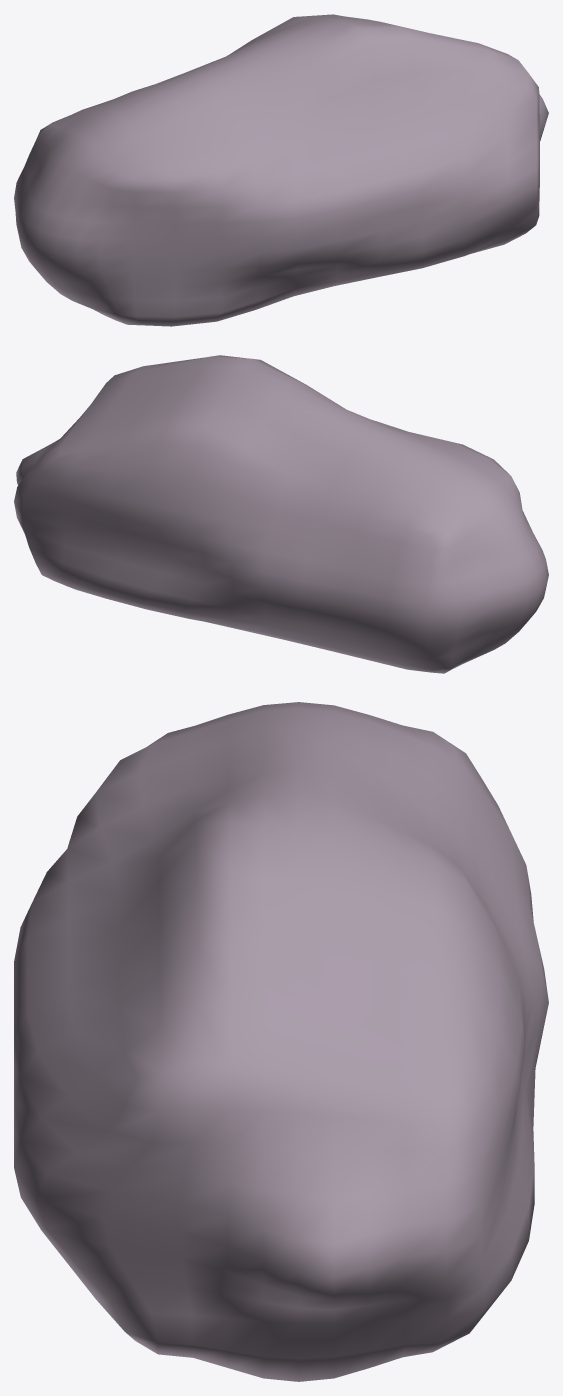
File: Rock2.fbx
The picture shows the model from 3 angles, top to bottom: view 1: azimuth 30°, elevation 25°; view 2: azimuth 150°, elevation 25°; view 3: azimuth 270°, elevation 25°; orthographic projection. The views are drawn at different scales.
Parts seen in each view (by area): view 1: pCube1; view 2: pCube1; view 3: pCube1.
Part boxes in pixels (left/top/right/bottom): pCube1: left=14, top=14, right=548, bottom=326; pCube1: left=14, top=355, right=548, bottom=673; pCube1: left=14, top=702, right=548, bottom=1381.
Size of the model in its own units: 454 by 200 by 220.
